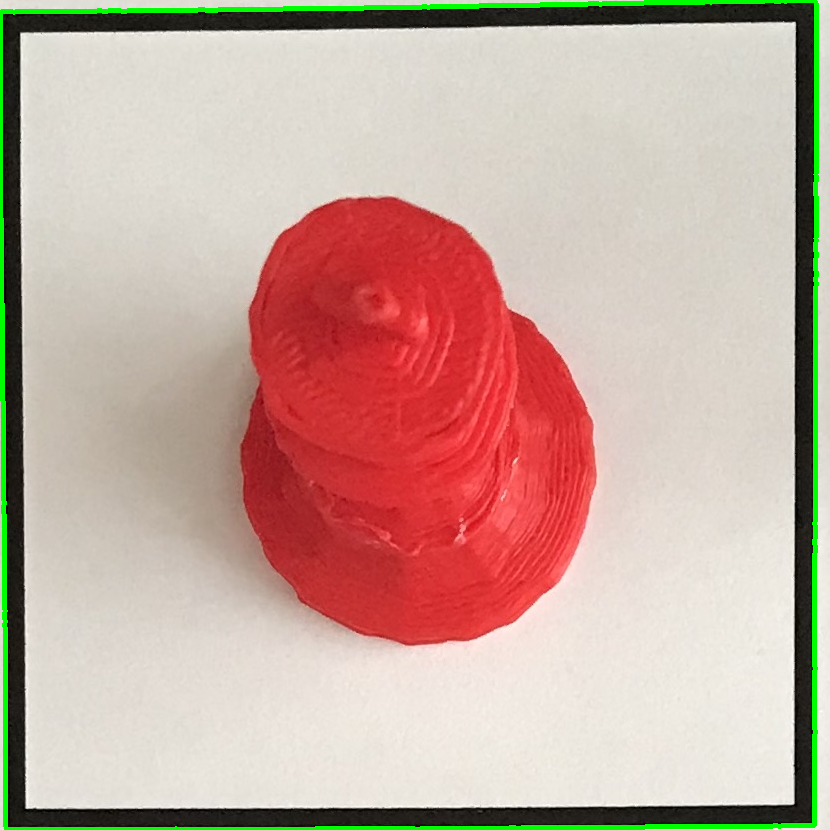Red King: (220, 197, 604, 657)
